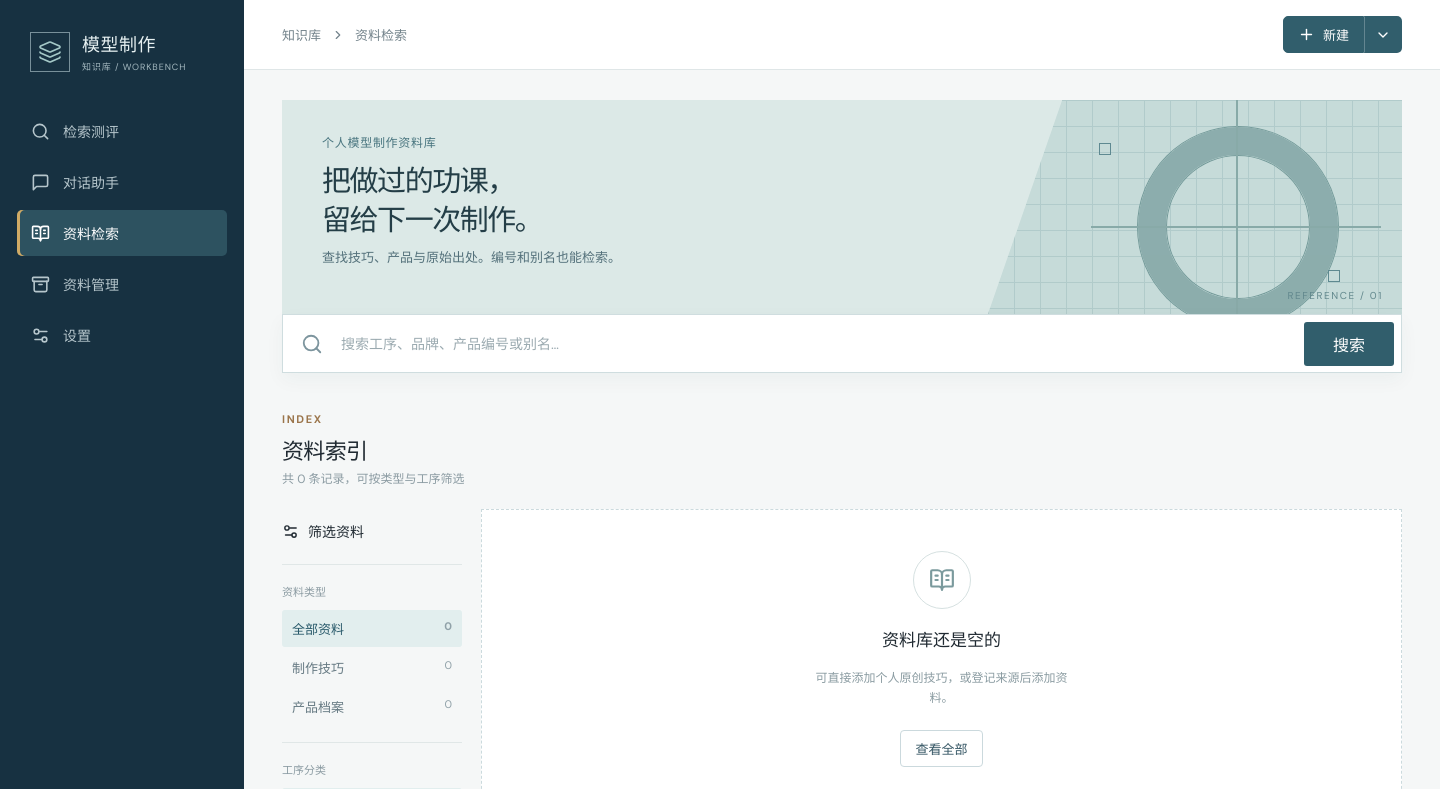
it: workbench › explains when no published source can be selected
Click the button "新建".
click(1324, 34)  # box x1=1283 y1=16 x2=1364 y2=53
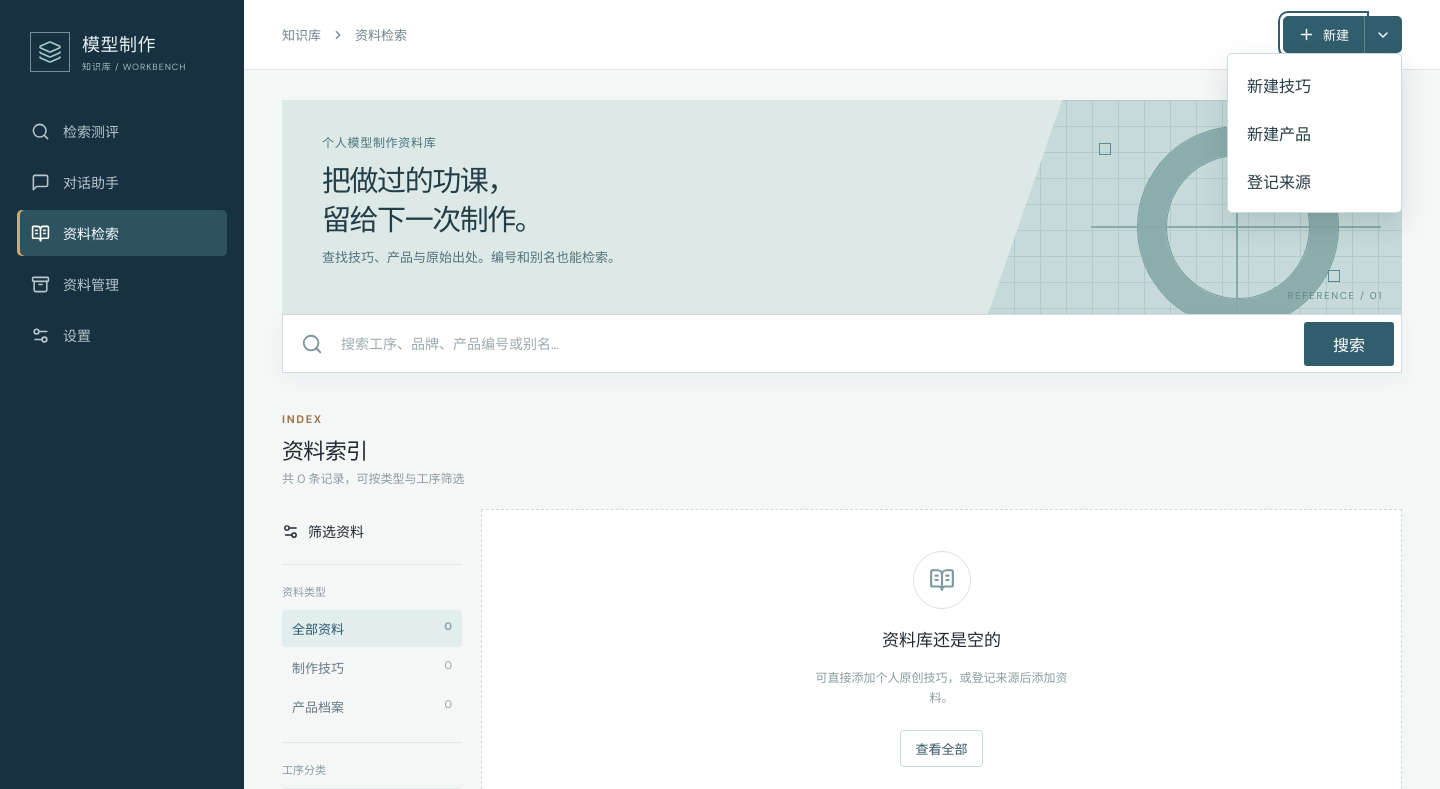
Click the menu item "新建技巧".
click(1314, 85)  # box x1=1235 y1=61 x2=1394 y2=109
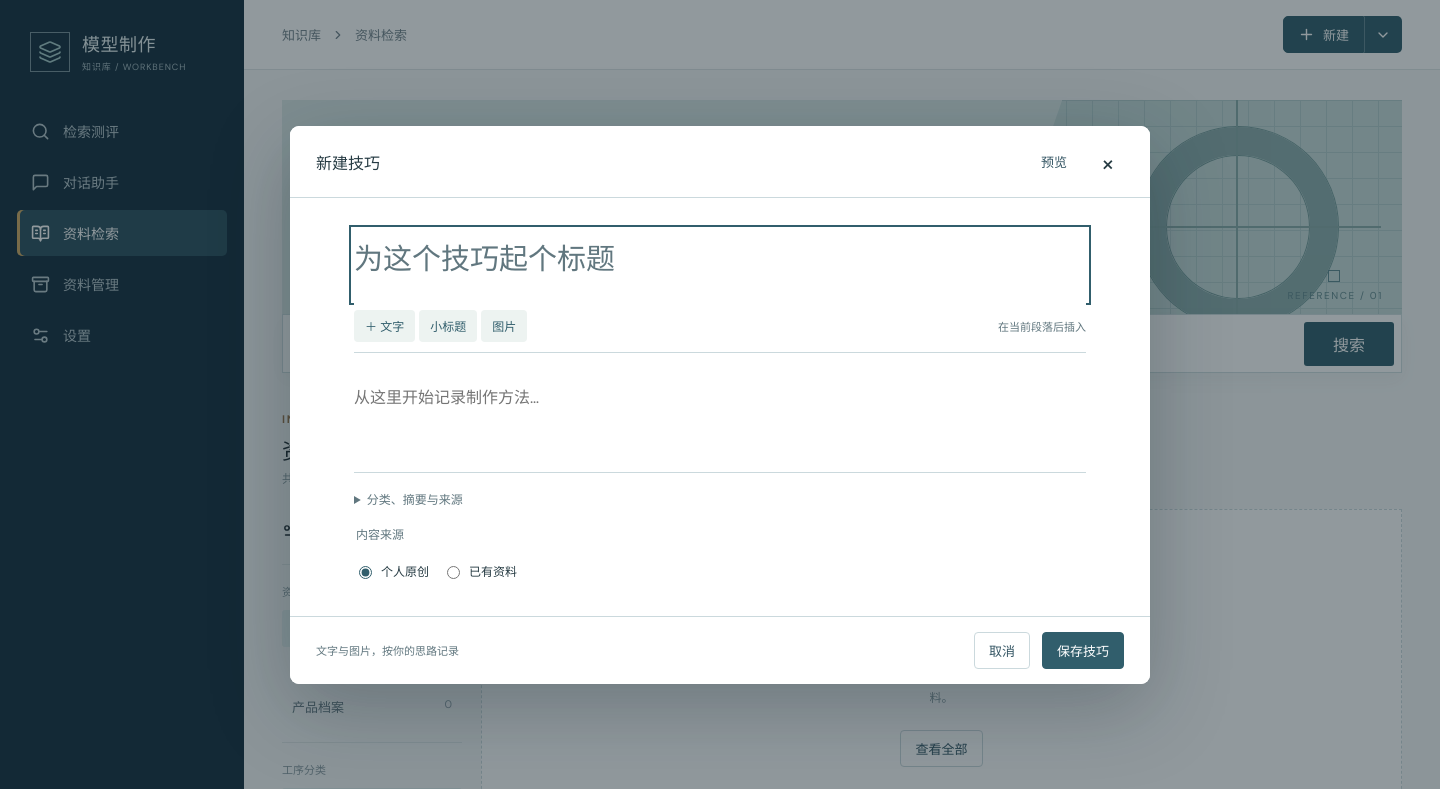
Click the radio button labelled "已有资料".
click(454, 572)  # box x1=447 y1=566 x2=460 y2=579
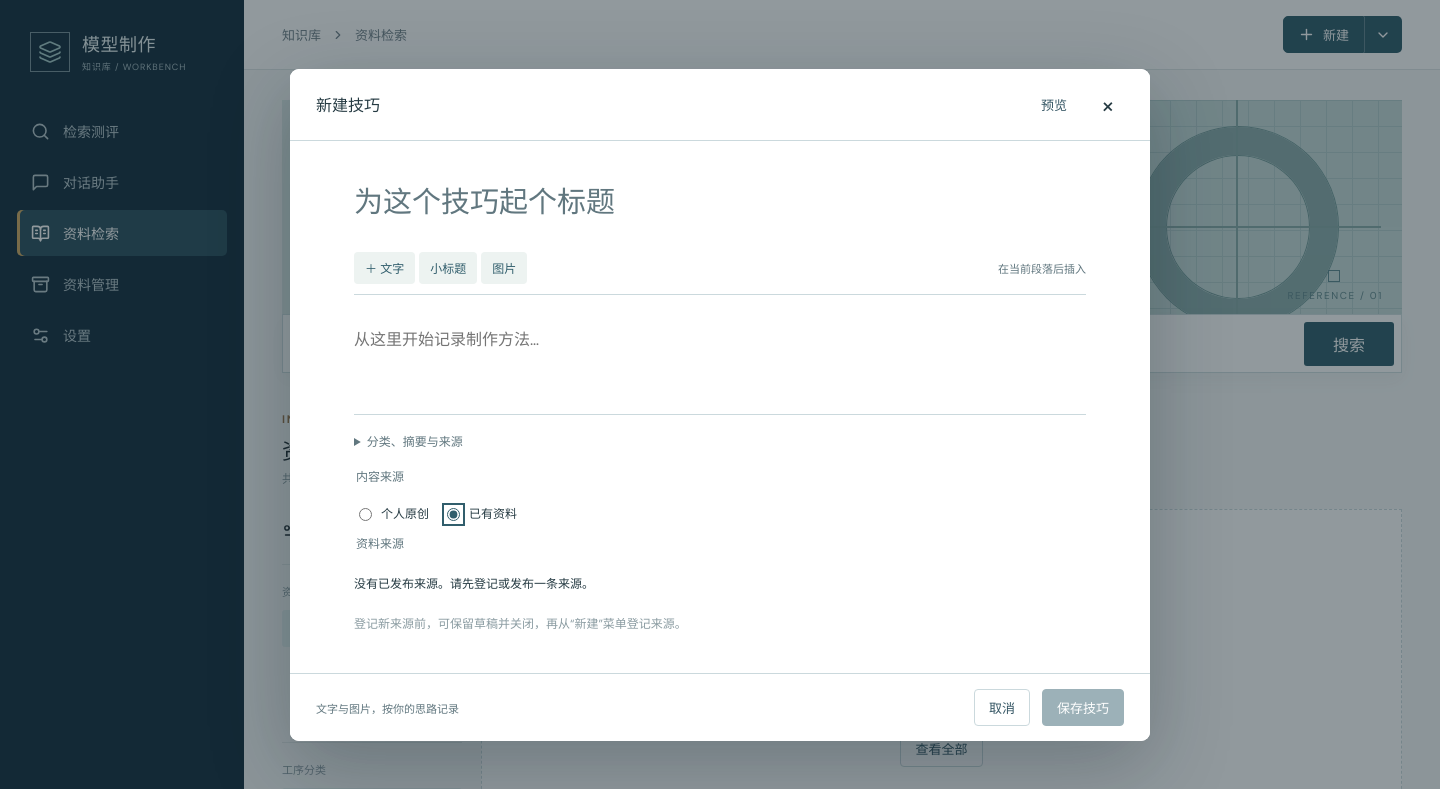
Now the text "没有已发布来源。请先登记或发布一条来源。" is shown, box x1=354 y1=576 x2=594 y2=592
Now the button "保存技巧" is disabled, box x1=1042 y1=689 x2=1124 y2=726
